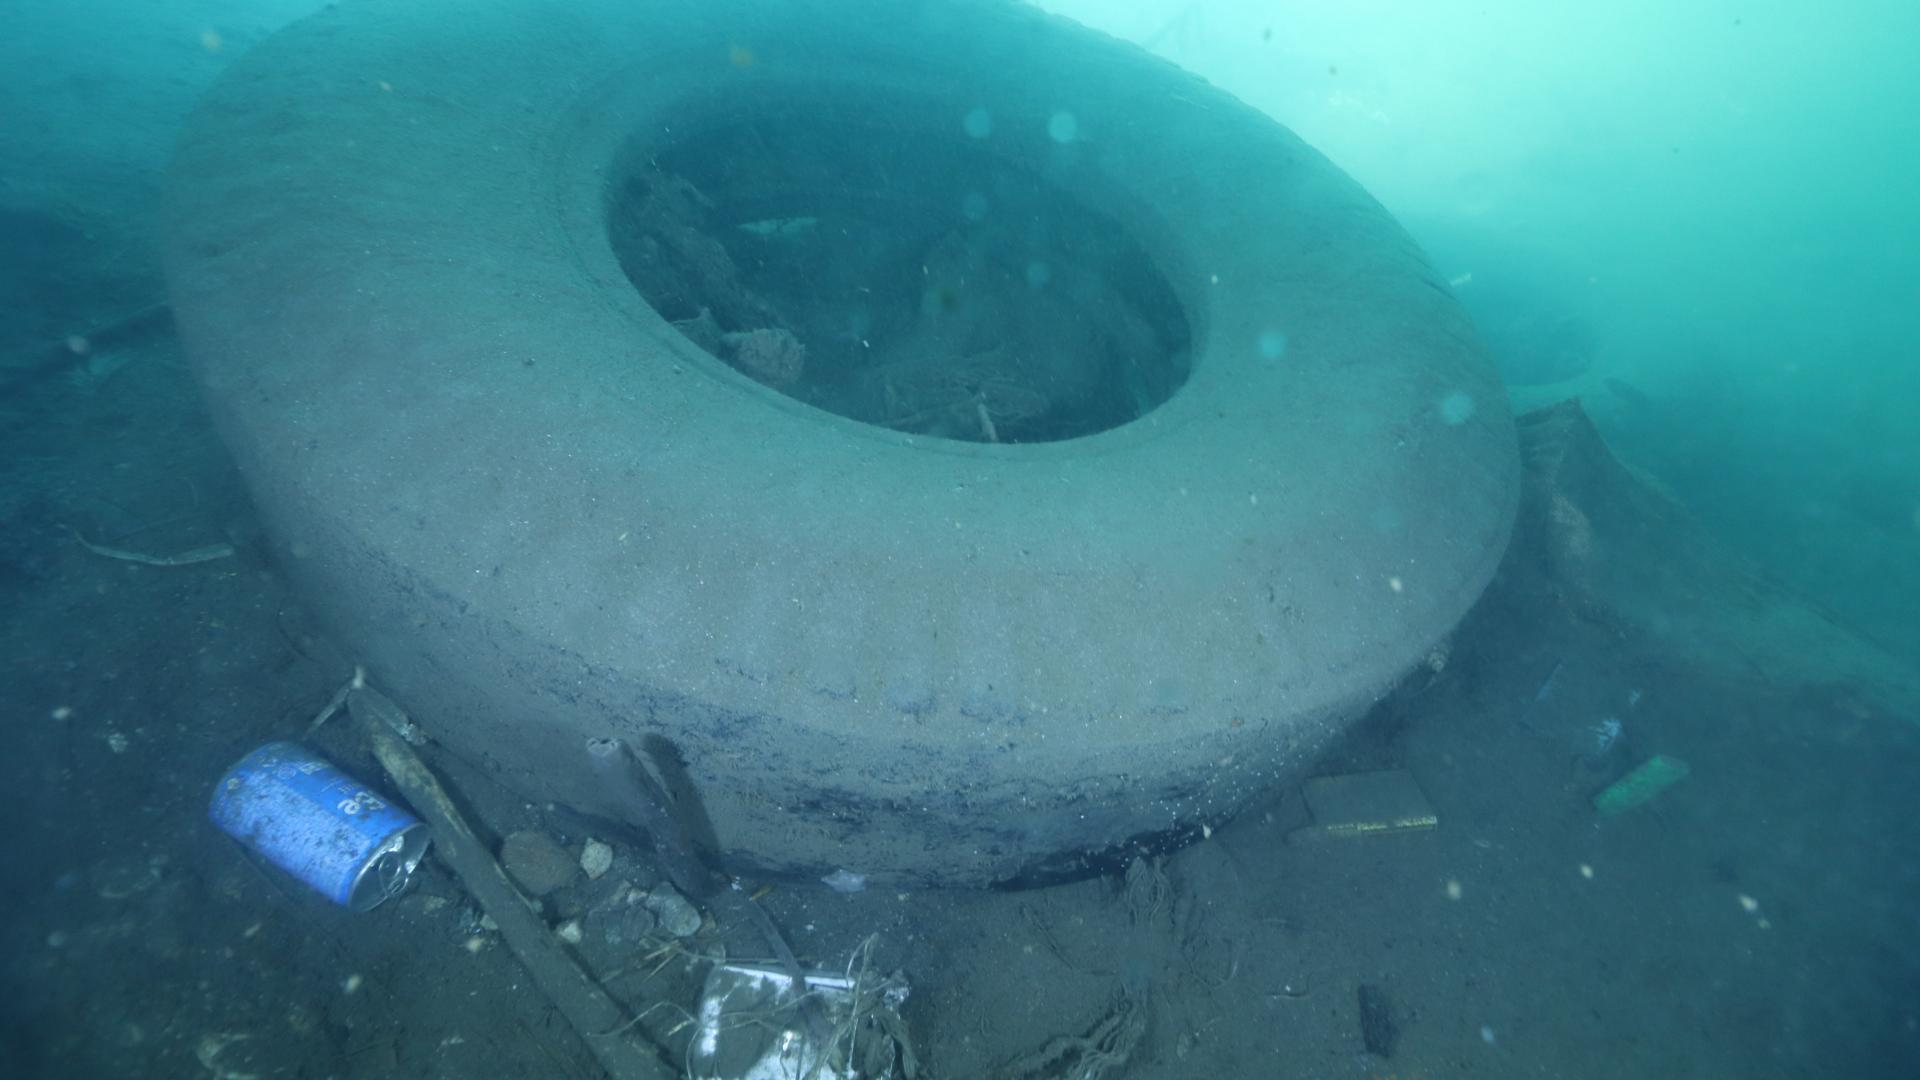tire: (150, 0, 1520, 884)
